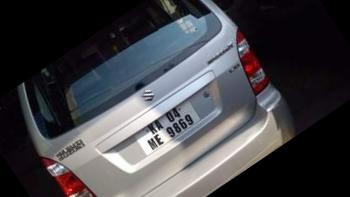plate: (107, 82, 219, 178)
